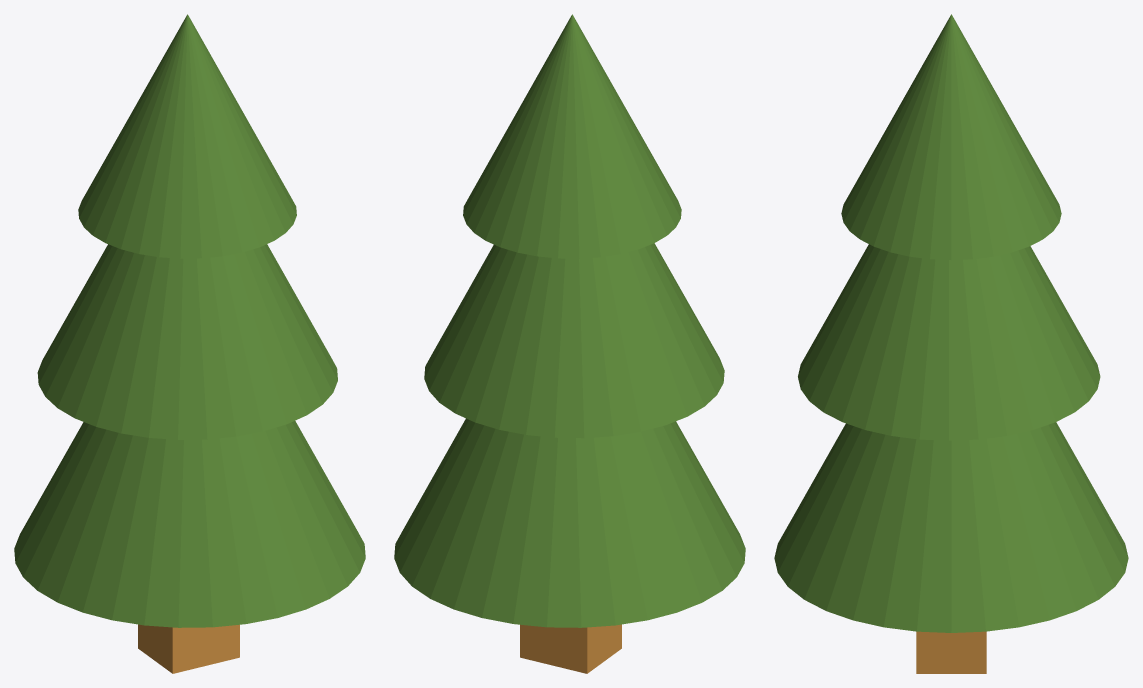
The model's file is arbol.fbx.
The picture shows the model from 3 angles, left to right: view 1: azimuth 30°, elevation 25°; view 2: azimuth 150°, elevation 25°; view 3: azimuth 270°, elevation 25°; orthographic projection.
Parts seen in each view (by area): view 1: Cono, Cono.001, Cono.002, Cubo; view 2: Cono, Cono.001, Cono.002, Cubo; view 3: Cono, Cono.001, Cono.002, Cubo.
Part boxes in pixels (x1,y1,x2,y2): Cono: (14,421,365,627); Cono.001: (37,244,337,439); Cono.002: (78,14,296,258); Cubo: (138,624,239,673); Cono: (394,418,745,627); Cono.001: (424,243,724,438); Cono.002: (463,14,681,258); Cubo: (520,624,621,673); Cono: (774,422,1128,632); Cono.001: (798,244,1100,440); Cono.002: (841,14,1061,260); Cubo: (916,631,986,673).
Size of the model in its own units: 1169 by 2341 by 1169.
